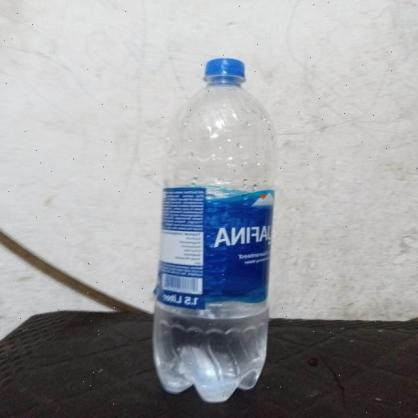bottle: (143, 41, 295, 408)
cap: (194, 58, 253, 91)
label: (143, 177, 287, 323)
